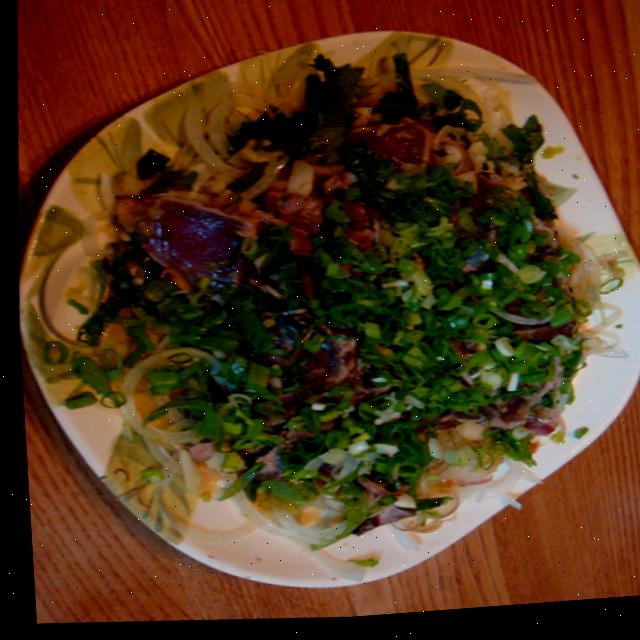熟制海鲜: (42, 38, 635, 593)
